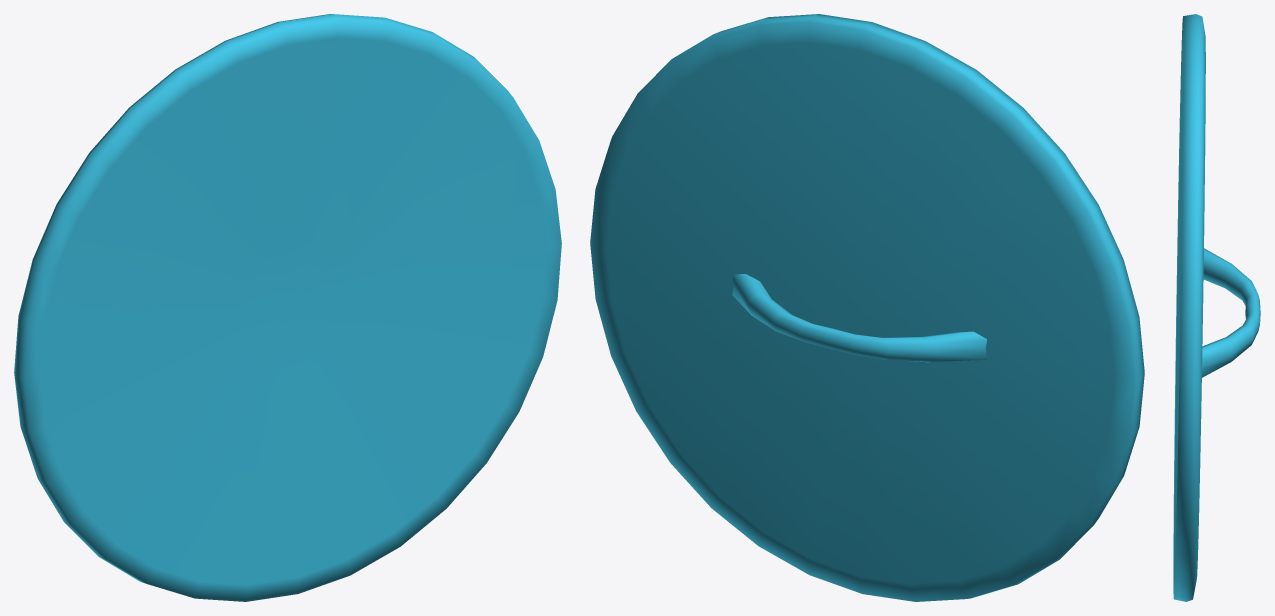
File: shield_flat_rome.fbx
3 views of the same model, side by side, from view 1: azimuth 30°, elevation 25°; view 2: azimuth 150°, elevation 25°; view 3: azimuth 270°, elevation 25° (orthographic). The views are drawn at different scales.
Visible parts, largest first — view 1: round_flat_shield_lod1_lod1; view 2: round_flat_shield_lod1_lod1; view 3: round_flat_shield_lod1_lod1.
Boxes of the visible parts, box(x1,y1,x2,y2) form: round_flat_shield_lod1_lod1: box(14, 14, 561, 601); round_flat_shield_lod1_lod1: box(590, 14, 1144, 601); round_flat_shield_lod1_lod1: box(1173, 14, 1260, 601).
Bounding box in the file's own units: 23.78 × 23.78 × 3.53.
